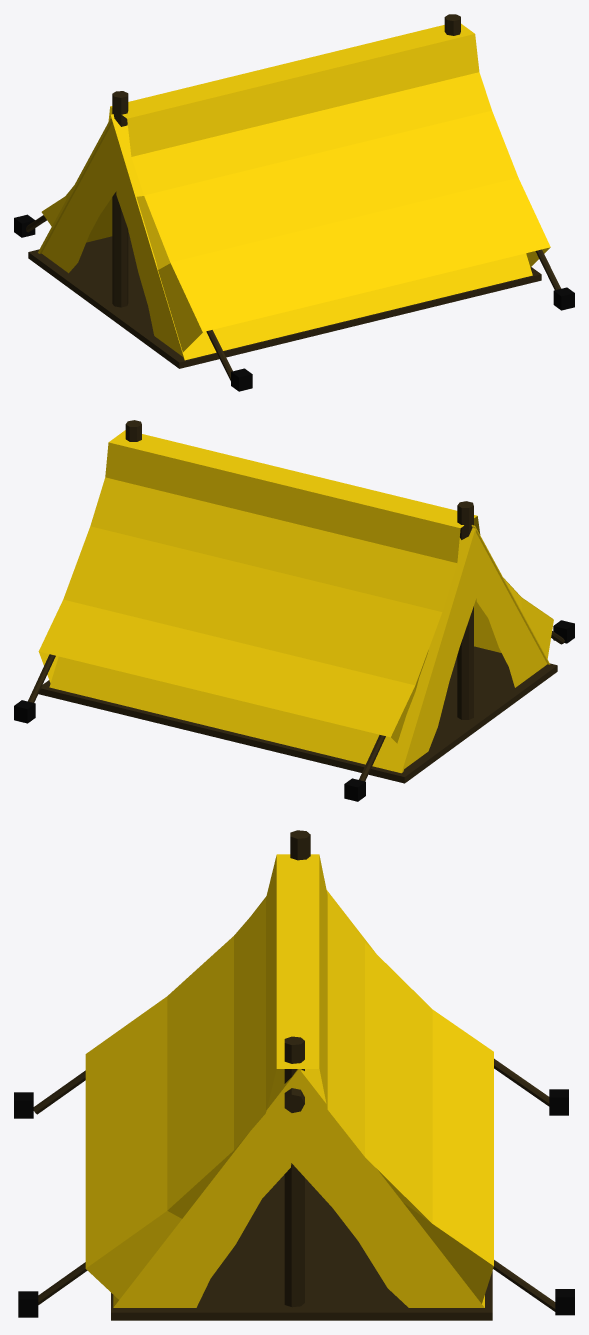
Rendered from Camp.glb.
3 renders of one model, top to bottom at view 1: azimuth 30°, elevation 25°; view 2: azimuth 150°, elevation 25°; view 3: azimuth 270°, elevation 25°, orthographic. The views are drawn at different scales.
Parts seen in each view (by area): view 1: Cube.003; view 2: Cube.003; view 3: Cube.003.
Boxes of the visible parts, x1,y1,x2,y2 form: Cube.003: (14, 14, 574, 391); Cube.003: (14, 420, 574, 801); Cube.003: (14, 830, 574, 1320).
Bounding box in the file's own units: 6.05 × 3.43 × 6.37.
